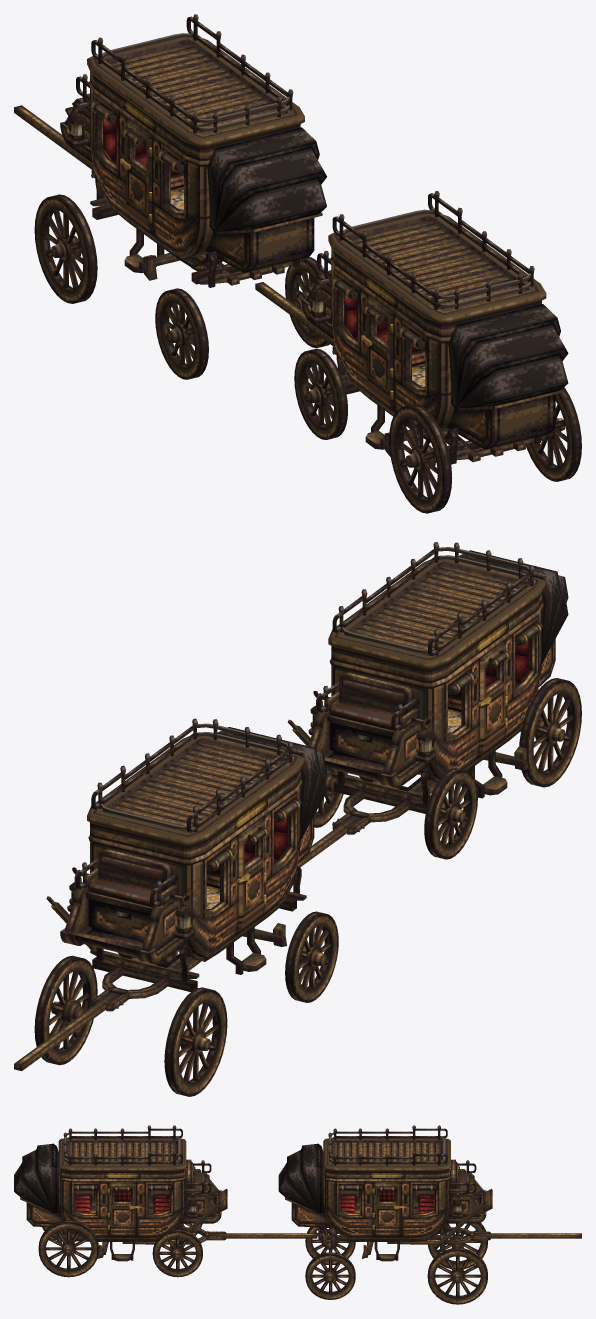
Rendered from EnvObjMD_Carriage_Coach.FBX.
3 renders of one model, top to bottom at view 1: azimuth 30°, elevation 25°; view 2: azimuth 150°, elevation 25°; view 3: azimuth 270°, elevation 25°, orthographic. The views are drawn at different scales.
Parts seen in each view (by area): view 1: EnvObjMD_Carriage_Coach, EnvObjMD_Carriage_Coach_NoWheel, EnvObjMD_Carriage_Coach_Wheel_F, EnvObjMD_Carriage_Coach_Wheel_B; view 2: EnvObjMD_Carriage_Coach, EnvObjMD_Carriage_Coach_NoWheel, EnvObjMD_Carriage_Coach_Wheel_B, EnvObjMD_Carriage_Coach_Wheel_F; view 3: EnvObjMD_Carriage_Coach, EnvObjMD_Carriage_Coach_NoWheel, EnvObjMD_Carriage_Coach_Wheel_B, EnvObjMD_Carriage_Coach_Wheel_F.
Part boxes in pixels (x1,y1,x2,y2): EnvObjMD_Carriage_Coach: (255, 191, 581, 513); EnvObjMD_Carriage_Coach_NoWheel: (14, 14, 326, 287); EnvObjMD_Carriage_Coach_Wheel_F: (155, 257, 329, 379); EnvObjMD_Carriage_Coach_Wheel_B: (34, 194, 222, 303); EnvObjMD_Carriage_Coach: (287, 542, 581, 866); EnvObjMD_Carriage_Coach_NoWheel: (14, 718, 327, 1070); EnvObjMD_Carriage_Coach_Wheel_B: (34, 955, 227, 1096); EnvObjMD_Carriage_Coach_Wheel_F: (161, 911, 338, 1002); EnvObjMD_Carriage_Coach: (14, 1125, 317, 1277); EnvObjMD_Carriage_Coach_NoWheel: (278, 1125, 581, 1261); EnvObjMD_Carriage_Coach_Wheel_B: (427, 1222, 487, 1304); EnvObjMD_Carriage_Coach_Wheel_F: (305, 1227, 355, 1299).
Bounding box in the file's own units: 290 × 485 × 1692.
Materials: 1 (1 with a texture image).
